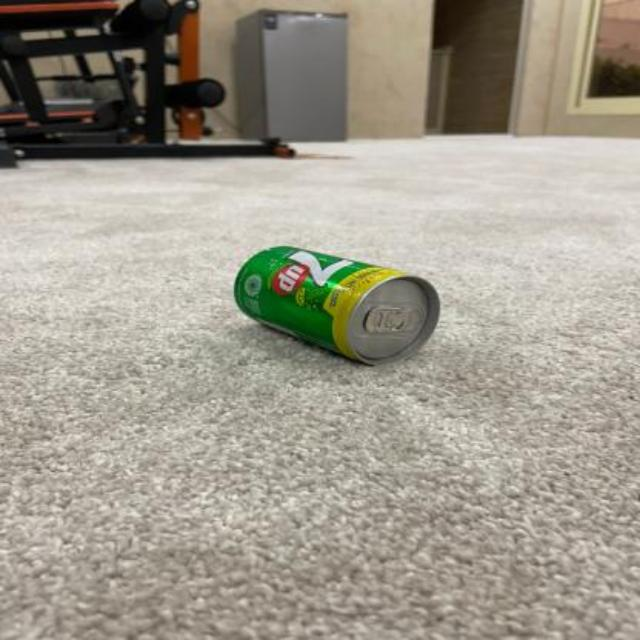metal: (232, 245, 437, 360)
